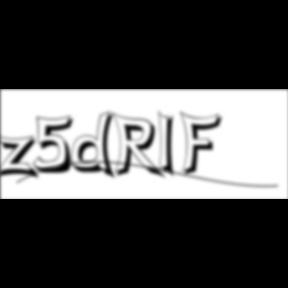5: (32, 114, 80, 176)
F: (180, 110, 228, 178)
R: (112, 112, 170, 182)
d: (71, 110, 121, 182)
l: (158, 108, 182, 182)
z: (0, 134, 44, 182)
